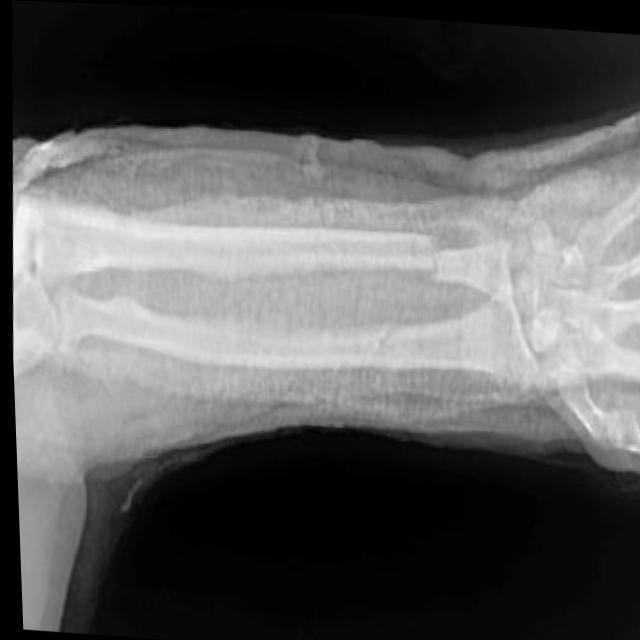fracture: (413, 214, 451, 304)
